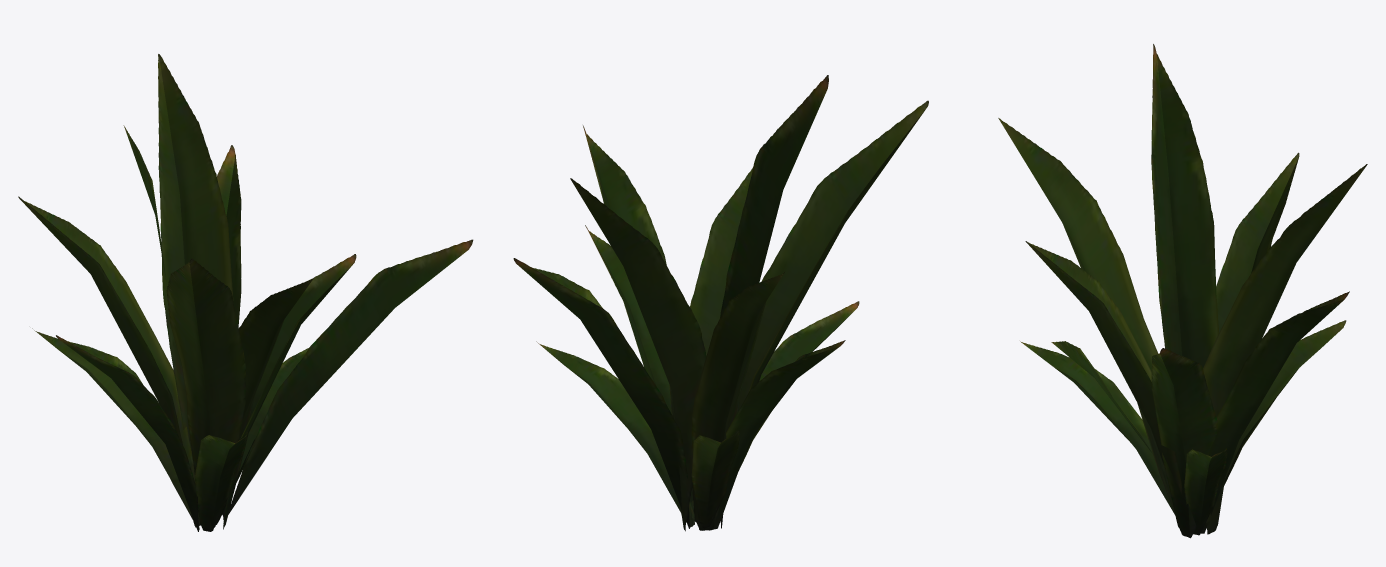
3 views of the same model, side by side, from view 1: azimuth 30°, elevation 25°; view 2: azimuth 150°, elevation 25°; view 3: azimuth 270°, elevation 25° (orthographic). The views are drawn at different scales.
Parts seen in each view (by area): view 1: body0_model0_lod0_mesh0; view 2: body0_model0_lod0_mesh0; view 3: body0_model0_lod0_mesh0.
Part boxes in pixels (x1,y1,x2,y2): body0_model0_lod0_mesh0: (18,54,473,531); body0_model0_lod0_mesh0: (513,75,928,531); body0_model0_lod0_mesh0: (998,44,1367,538).
Bounding box in the file's own units: 249 × 343 × 258.
1 material, 1 textured.
